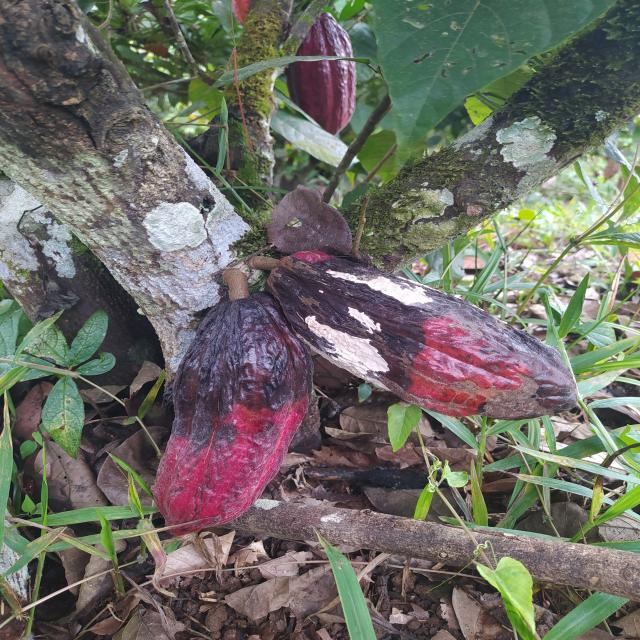Fitoftora: (146, 300, 318, 536)
Monilia: (268, 249, 576, 419)
Sana: (287, 11, 359, 137)
